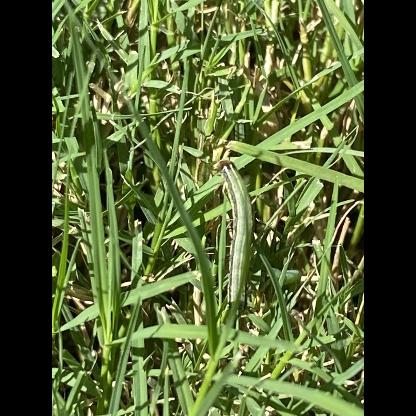Fall Armyworm Larvae: (209, 157, 258, 315)
